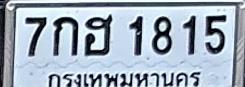1: (182, 15, 196, 55), (129, 15, 143, 55)
5: (205, 14, 226, 54)
7: (24, 16, 46, 56)
8: (152, 16, 172, 54)
A01: (52, 16, 78, 56)
A44: (84, 14, 113, 56)
BKK: (45, 68, 202, 87)
